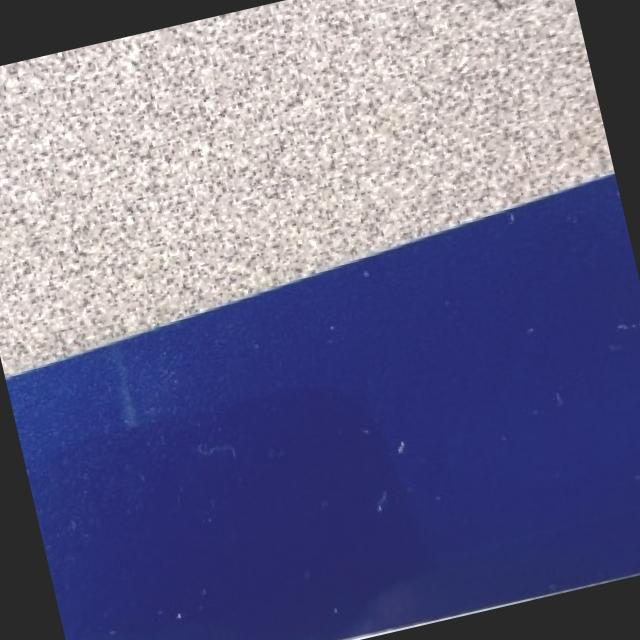healthy: (5, 172, 640, 640)
